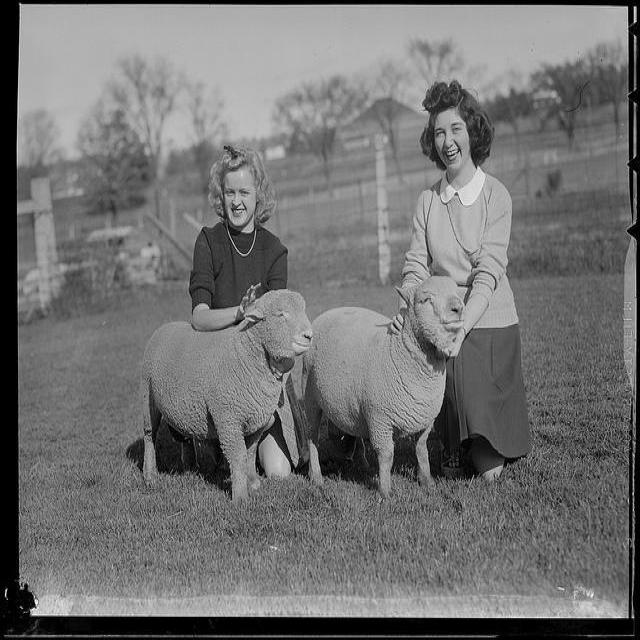Sheep: (139, 288, 317, 502), (303, 276, 469, 489)
